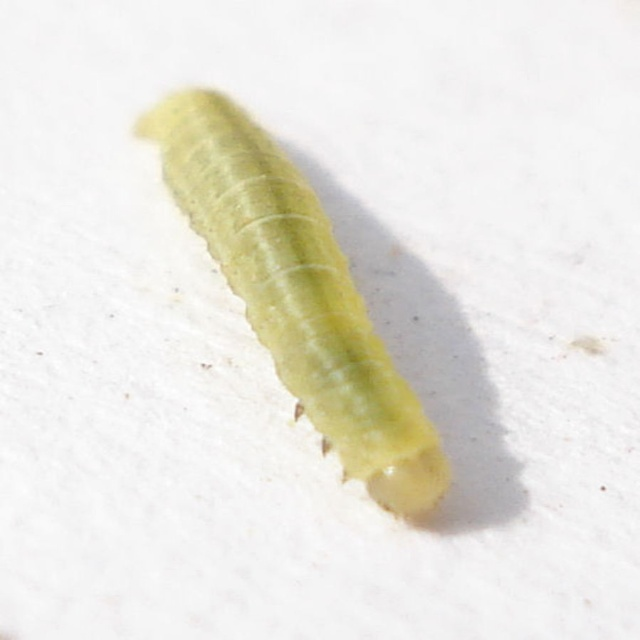Caterpillar: (128, 80, 456, 518)
